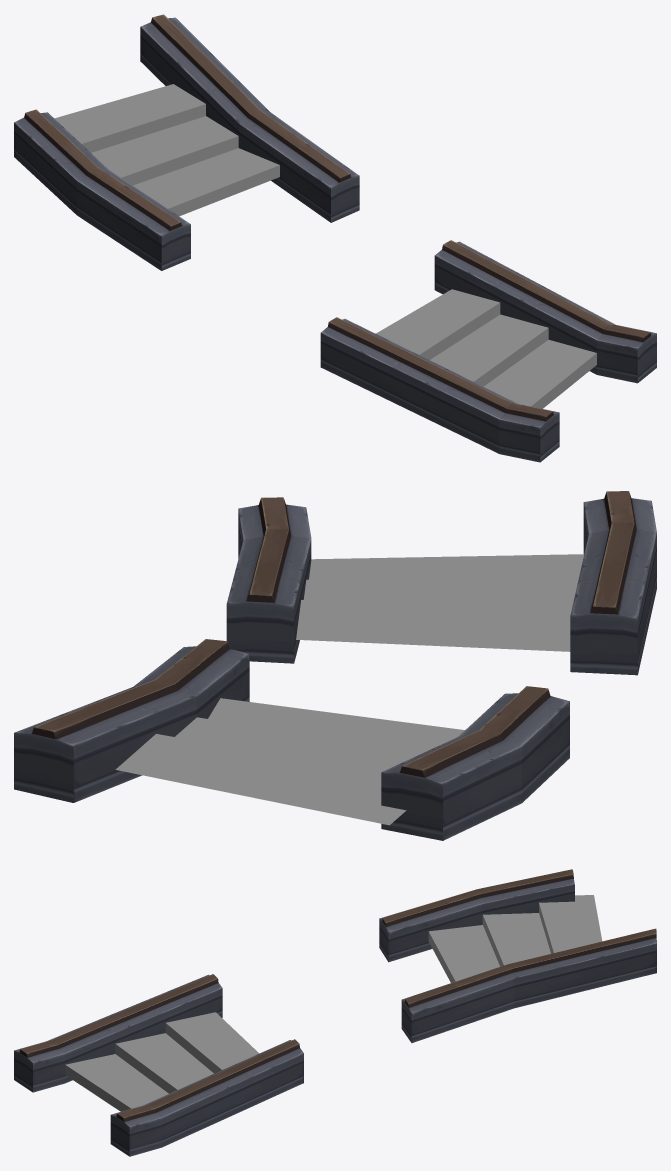
File: cs_yanjiangchengbao_louti_001.FBX
The picture shows the model from 3 angles, top to bottom: view 1: azimuth 30°, elevation 25°; view 2: azimuth 150°, elevation 25°; view 3: azimuth 270°, elevation 25°; orthographic projection. The views are drawn at different scales.
Visible parts, largest first — view 1: cs_yanjiangchengbao_louti_001; view 2: cs_yanjiangchengbao_louti_001; view 3: cs_yanjiangchengbao_louti_001.
Boxes of the visible parts, x1,y1,x2,y2 form: cs_yanjiangchengbao_louti_001: (14,14,656,462); cs_yanjiangchengbao_louti_001: (14,491,656,840); cs_yanjiangchengbao_louti_001: (14,869,656,1156).
Bounding box in the file's own units: 19.19 × 32.64 × 8.23.
